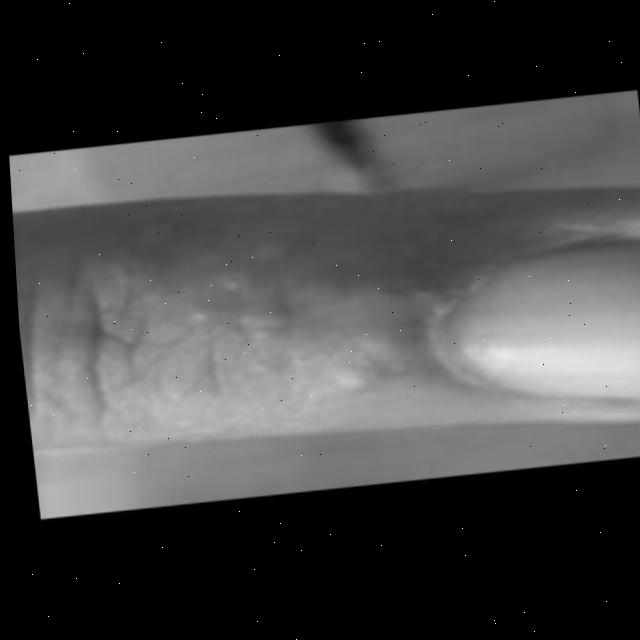Eczema: (89, 222, 444, 419)
